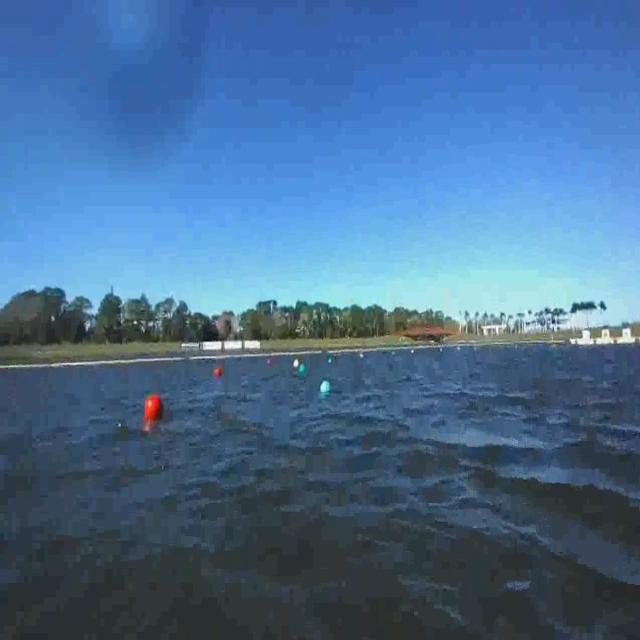green-buoy: (319, 378, 332, 398), (298, 361, 309, 378)
red-buoy: (145, 396, 164, 421), (215, 366, 222, 376)
